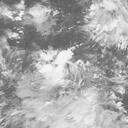cyclone: (31, 49, 84, 104)
